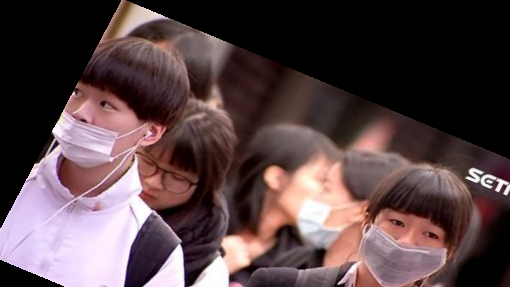mask_weared_incorrect: (48, 31, 194, 200), (351, 155, 498, 287)
